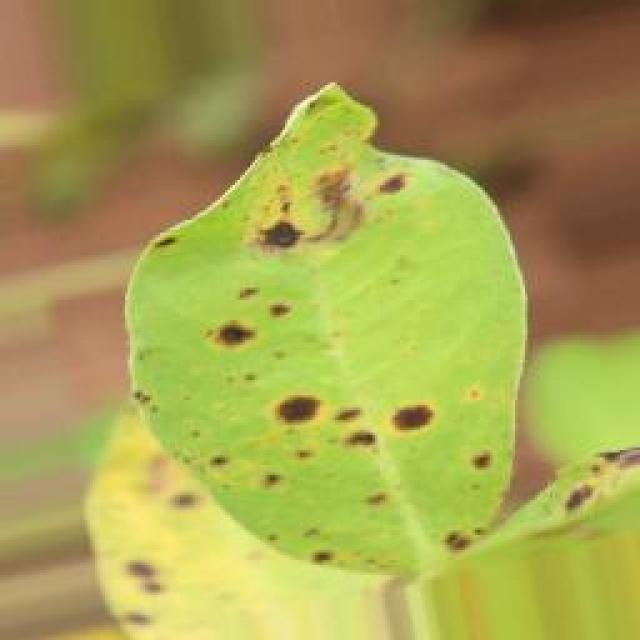Yellowish: (101, 71, 614, 582)
